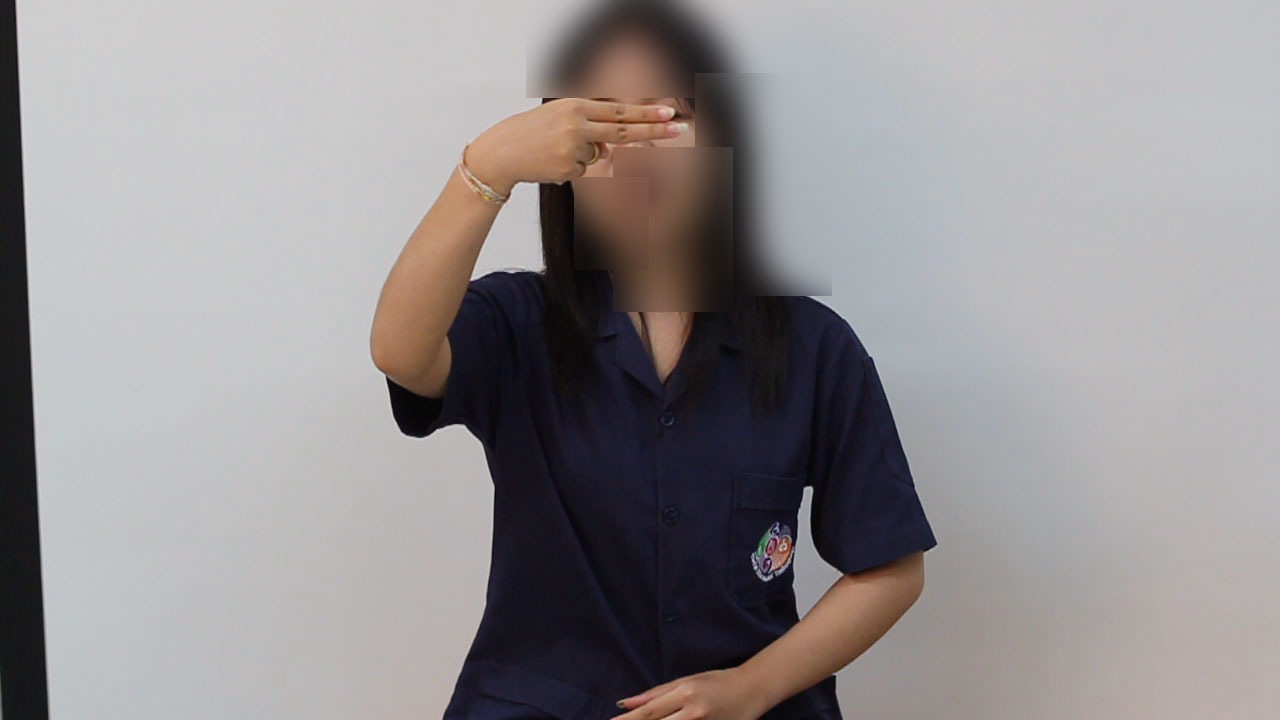hor: (437, 88, 695, 215)
